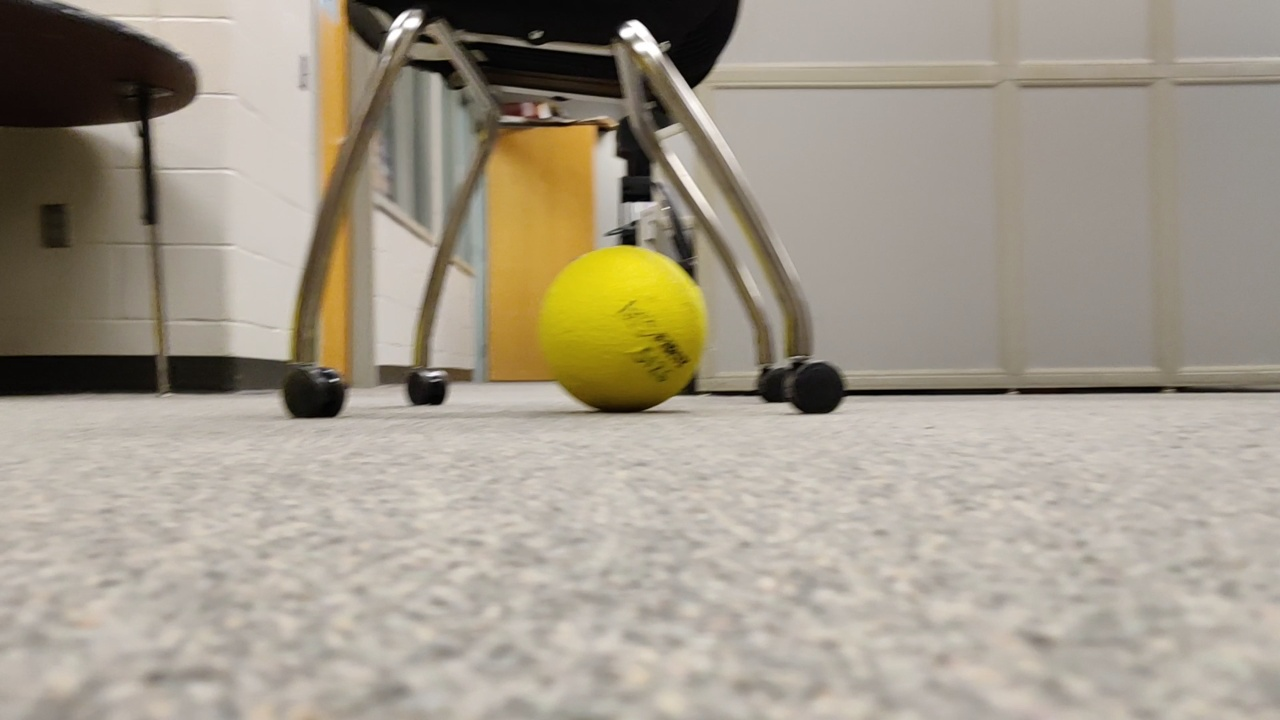Ball: (536, 245, 706, 421)
